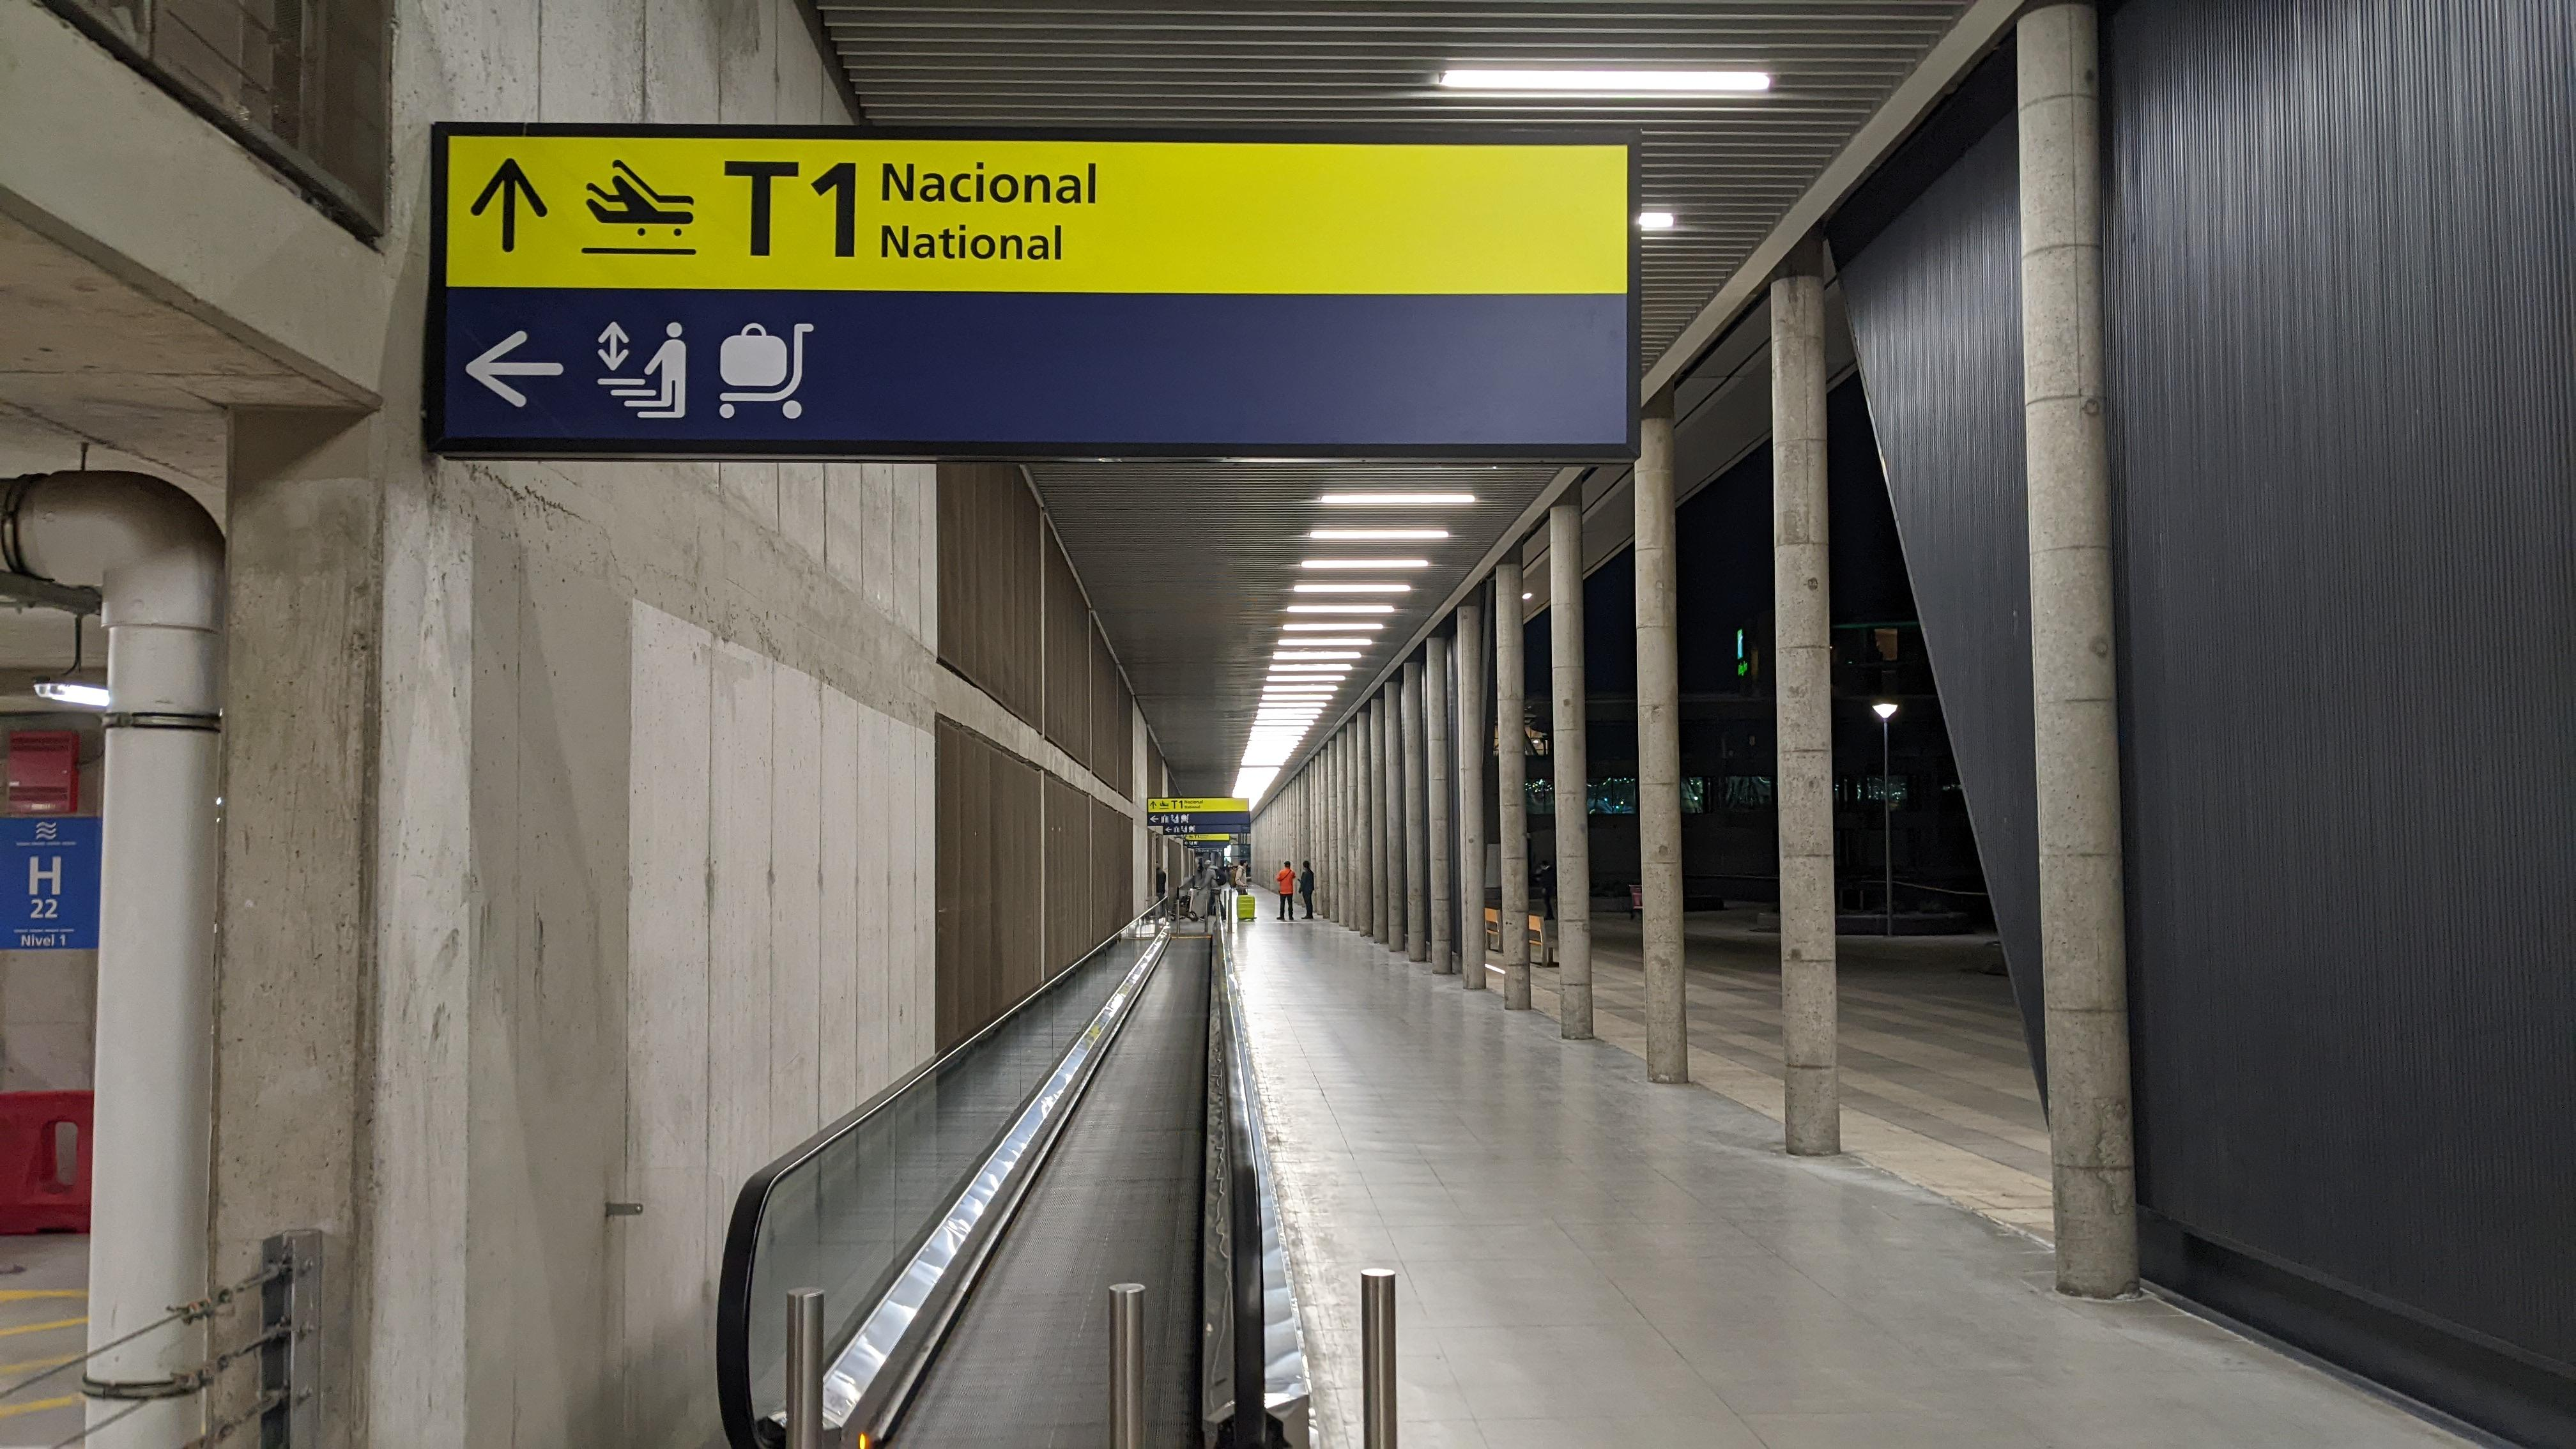airplane symbol: (1159, 800, 1169, 807)
baggage claim: (718, 322, 789, 387)
thin left arrow: (462, 326, 568, 410), (1150, 814, 1159, 823), (1164, 826, 1173, 833)
thin right arrow: (467, 154, 548, 251)
thin up arrow: (1150, 800, 1157, 810)
